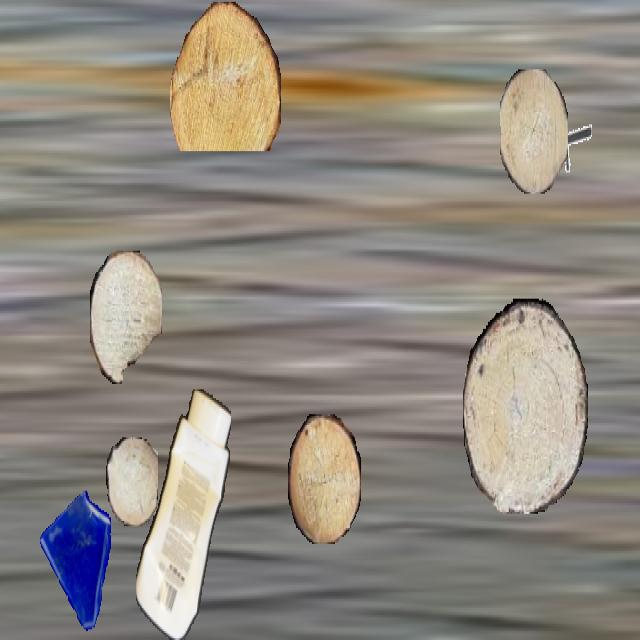glass: (36, 489, 120, 638)
metal: (554, 108, 592, 176), (0, 92, 2, 185)
plastic: (136, 390, 230, 638)
wood: (463, 299, 587, 512), (170, 2, 280, 151), (90, 251, 162, 382), (288, 414, 360, 542), (500, 69, 568, 194), (106, 438, 158, 526)
